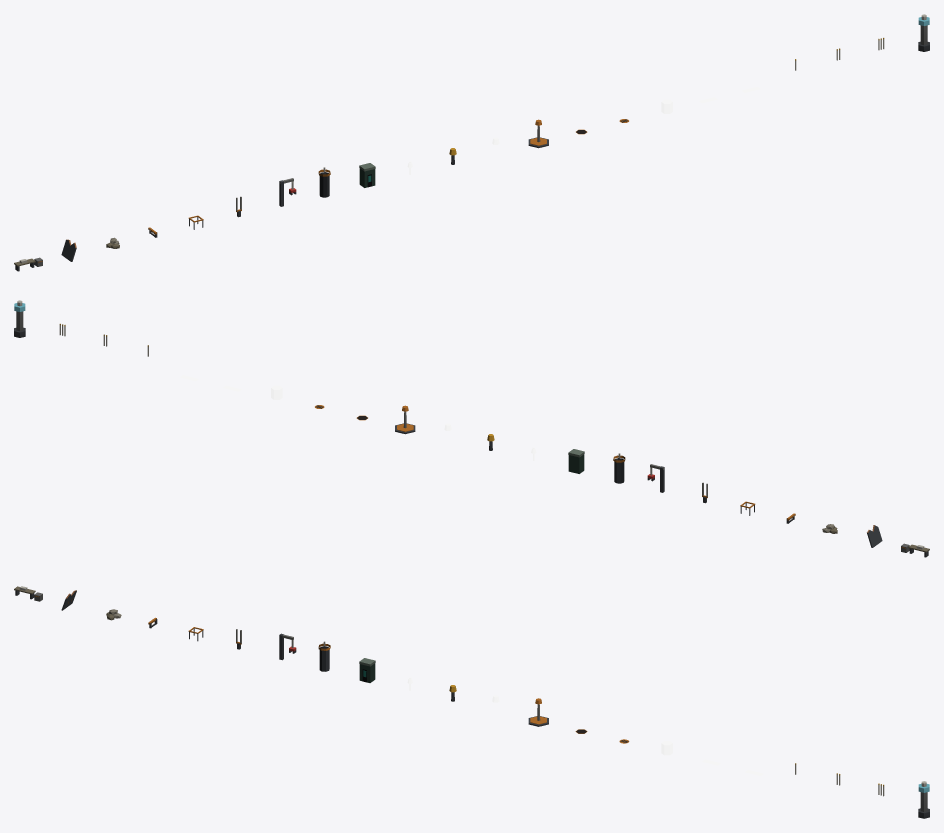
File: kit-boss.glb
3 views of the same model, one above another, from view 1: azimuth 30°, elevation 25°; view 2: azimuth 150°, elevation 25°; view 3: azimuth 330°, elevation 25° (orthographic).
Size of the model in its own units: 85.4 by 3.02 by 1.65.
